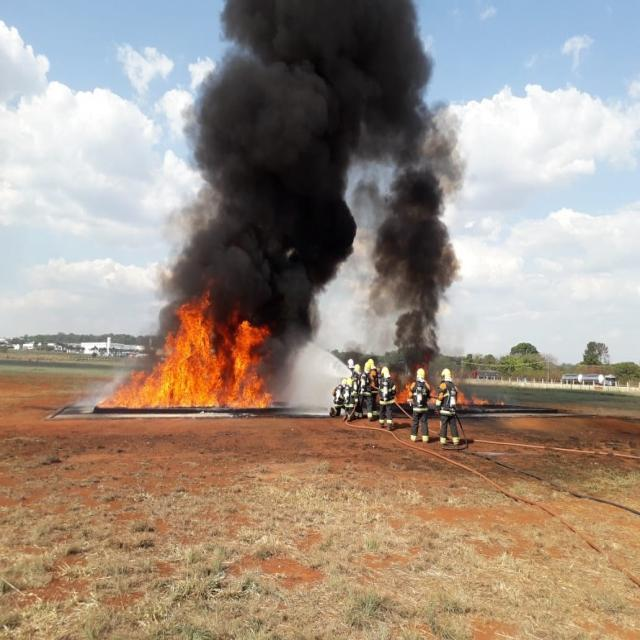Fire: (104, 289, 272, 407), (456, 386, 488, 406), (394, 378, 410, 403)
